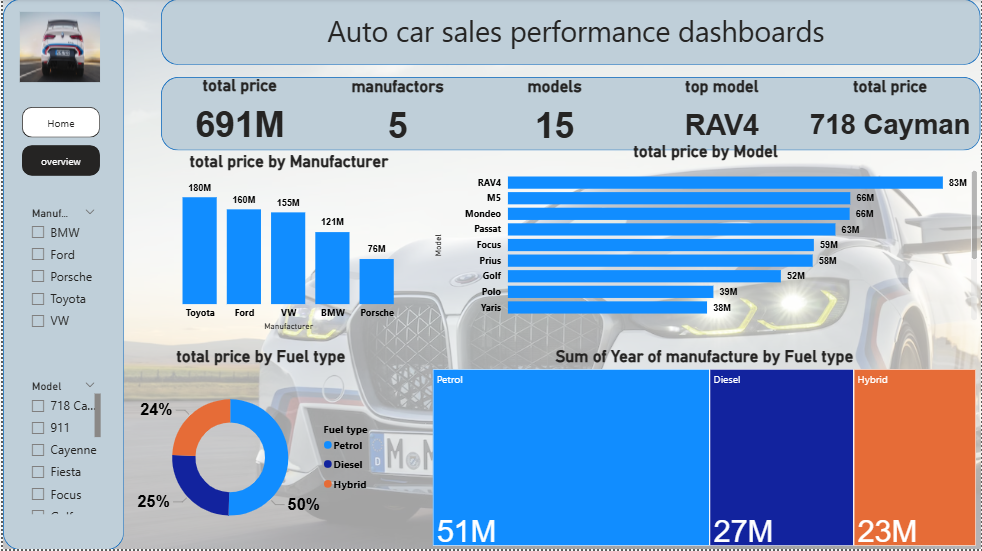

This screenshot's page, from the dashboard's own definition file:
{"tool":"powerbi","page":{"name":"overview","canvas":[1280,720],"ordinal":1},"visuals":[{"type":"shape","box":[206.9,0,1072.9,86.5],"z":0},{"type":"shape","box":[0,0,158.4,721.4],"z":1000},{"type":"shape","box":[206.9,102,1072.9,96.4],"z":2000},{"type":"card","title":"total price","fields":{"Values":["car_sales_data.total price"]},"box":[185.7,100.6,248,97.8],"z":3000},{"type":"card","title":"manufactors","fields":{"Values":["car_sales_data.manufactors"]},"box":[392.5,102.6,247.5,96.6],"z":4000},{"type":"card","title":"models","fields":{"Values":["car_sales_data.models"]},"box":[597.7,102.6,247.5,96.6],"z":5000},{"type":"card","title":"top model","fields":{"Values":["car_sales_data.Top Model by Sales"]},"box":[815,102,250.9,97.8],"z":6000},{"type":"card","title":"total price","fields":{"Values":["car_sales_data.min Model by Sales"]},"box":[1041.5,102.6,238.5,96.6],"z":7000},{"type":"columnChart","fields":{"Y":["car_sales_data.total price"],"Category":["car_sales_data.Manufacturer"]},"box":[206.9,199.8,334.5,238.1],"z":8000},{"type":"barChart","fields":{"Y":["car_sales_data.total price"],"Category":["car_sales_data.Model"]},"box":[558.4,187.1,721.4,238.1],"z":9000},{"type":"donutChart","fields":{"Category":["car_sales_data.Fuel type"],"Y":["car_sales_data.total price"]},"box":[170.1,455,334.5,265],"z":10000},{"type":"treemap","fields":{"Group":["car_sales_data.Fuel type"],"Values":["Sum(car_sales_data.Year of manufacture)"]},"box":[558,455,721,265],"z":11000},{"type":"slicer","fields":{"Values":["car_sales_data.Manufacturer"]},"box":[24.5,266.4,108,185.8],"z":12000},{"type":"slicer","fields":{"Values":["car_sales_data.Model"]},"box":[24.5,493.9,108,185.8],"z":13000},{"type":"image","box":[17.3,11.5,115.2,102.2],"z":14000},{"type":"textbox","box":[220.3,11.5,1059.8,74.9],"z":15000},{"type":"pageNavigator","box":[24.5,141.1,102.2,90.7],"z":16000}]}

Visuals, with their boxes on the page's 1280x720 design canvas (x1, y1, x2, y2). These are canvas units, not pixel positions in the 982x551 screenshot, which may show the page scaled, cropped or inside an application window:
shape: region(207, 0, 1280, 86)
shape: region(0, 0, 158, 721)
shape: region(207, 102, 1280, 198)
"total price" card: region(186, 101, 434, 198)
"manufactors" card: region(392, 103, 640, 199)
"models" card: region(598, 103, 845, 199)
"top model" card: region(815, 102, 1066, 200)
"total price" card: region(1042, 103, 1280, 199)
columnChart - car_sales_data.total price x car_sales_data.Manufacturer: region(207, 200, 541, 438)
barChart - car_sales_data.total price x car_sales_data.Model: region(558, 187, 1280, 425)
donutChart - car_sales_data.Fuel type x car_sales_data.total price: region(170, 455, 505, 720)
treemap - car_sales_data.Fuel type x Sum(car_sales_data.Year of manufacture): region(558, 455, 1279, 720)
slicer - car_sales_data.Manufacturer: region(24, 266, 132, 452)
slicer - car_sales_data.Model: region(24, 494, 132, 680)
image: region(17, 12, 132, 114)
textbox: region(220, 12, 1280, 86)
pageNavigator: region(24, 141, 127, 232)
